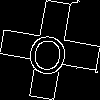O: (25, 25, 72, 77)
